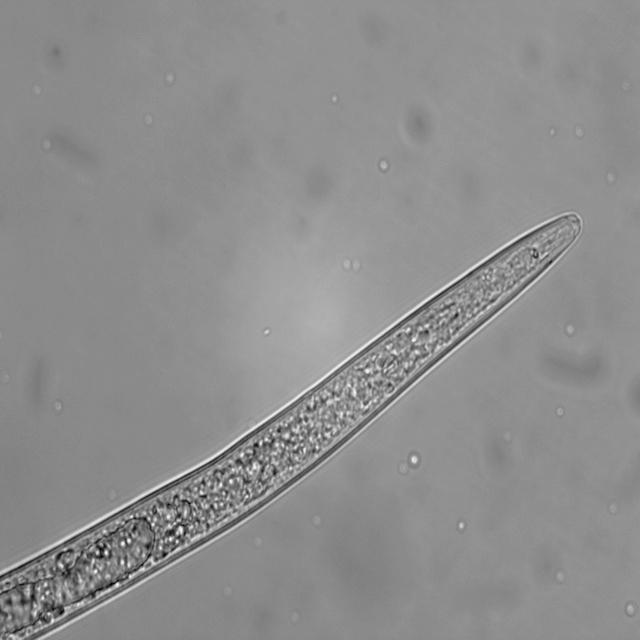Meloidogyne: (0, 204, 588, 640)
